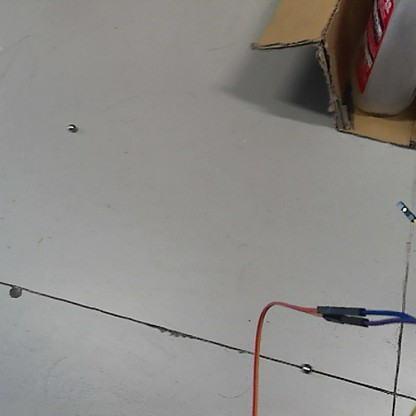ironball: (65, 119, 78, 135), (300, 360, 312, 374)
